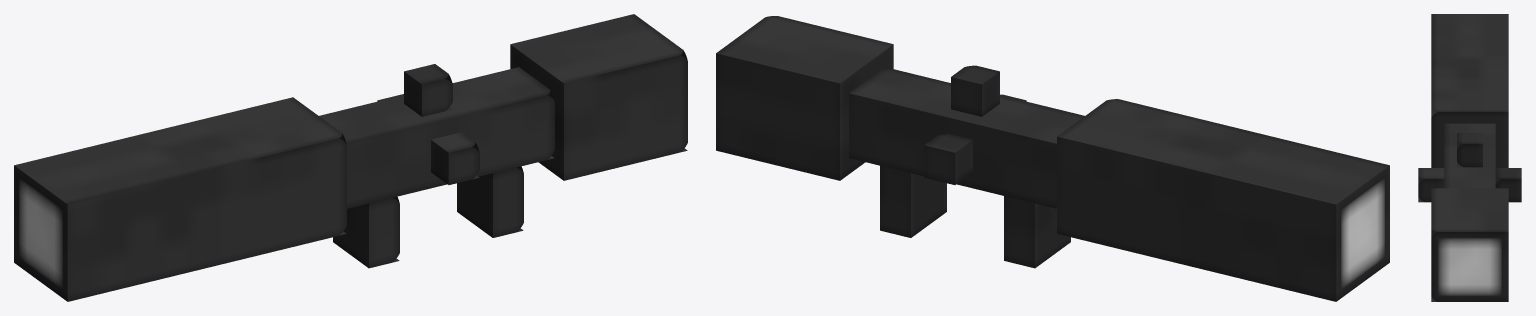
File: hp_scope.obj
3 renders of one model, left to right at view 1: azimuth 30°, elevation 25°; view 2: azimuth 150°, elevation 25°; view 3: azimuth 270°, elevation 25°, orthographic. The views are drawn at different scales.
Parts seen in each view (by area): view 1: Shape2, Shape3, Shape1, Shape4, Shape5, Shape7, Shape6; view 2: Shape2, Shape3, Shape1, Shape4, Shape5, Shape6, Shape8; view 3: Shape2, Shape3, Shape1, Shape6, Shape7, Shape8.
Boxes of the visible parts, x1,y1,x2,y2 form: Shape2: [14, 97, 346, 301]; Shape3: [510, 14, 687, 180]; Shape1: [319, 67, 554, 208]; Shape4: [457, 166, 523, 237]; Shape5: [333, 196, 399, 268]; Shape7: [431, 132, 479, 184]; Shape6: [404, 64, 452, 116]; Shape2: [1057, 99, 1389, 301]; Shape3: [716, 16, 893, 180]; Shape1: [849, 69, 1084, 208]; Shape4: [880, 166, 946, 237]; Shape5: [1004, 196, 1070, 268]; Shape6: [951, 65, 999, 116]; Shape8: [924, 134, 972, 184]; Shape2: [1431, 14, 1508, 167]; Shape3: [1431, 188, 1508, 301]; Shape1: [1444, 123, 1495, 188]; Shape6: [1457, 133, 1482, 167]; Shape7: [1418, 168, 1444, 202]; Shape8: [1495, 168, 1521, 202].
Bounding box in the file's own units: 1.25 × 0.3125 × 0.25.
